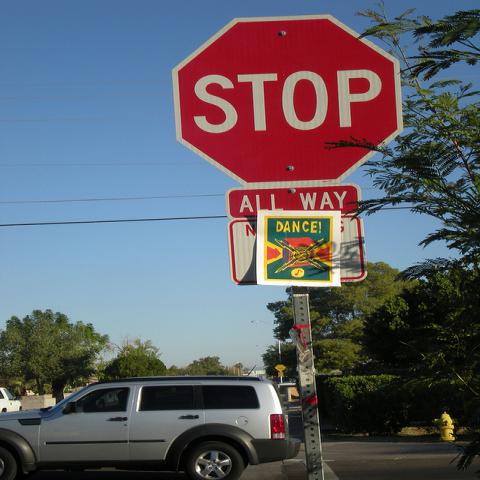car: (0, 376, 306, 474), (0, 387, 23, 412)
